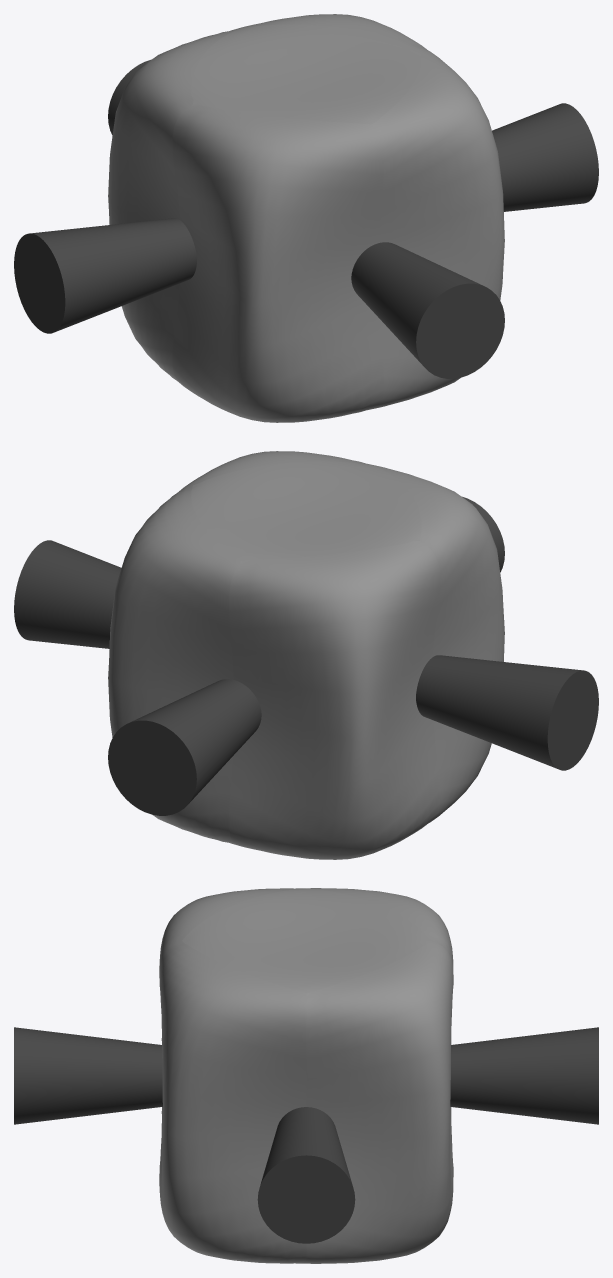
The picture shows the model from 3 angles, top to bottom: view 1: azimuth 30°, elevation 25°; view 2: azimuth 150°, elevation 25°; view 3: azimuth 270°, elevation 25°; orthographic projection. The views are drawn at different scales.
Visible parts, largest first — view 1: Body(Cubic)+Colour(6000000_6000000)+Pattern(Solid)+Smoo_6101, Arm002, Arm004, Arm001, Arm003; view 2: Body(Cubic)+Colour(6000000_6000000)+Pattern(Solid)+Smoo_6101, Arm002, Arm003, Arm001, Arm004; view 3: Body(Cubic)+Colour(6000000_6000000)+Pattern(Solid)+Smoo_6101, Arm004, Arm003, Arm001.
Boxes of the visible parts, left/top/right/bottom form: Body(Cubic)+Colour(6000000_6000000)+Pattern(Solid)+Smoo_6101: left=108, top=14, right=504, bottom=422; Arm002: left=14, top=218, right=196, bottom=333; Arm004: left=351, top=242, right=504, bottom=378; Arm001: left=492, top=103, right=598, bottom=211; Arm003: left=108, top=59, right=151, bottom=135; Body(Cubic)+Colour(6000000_6000000)+Pattern(Solid)+Smoo_6101: left=108, top=451, right=504, bottom=859; Arm002: left=416, top=655, right=598, bottom=770; Arm003: left=108, top=679, right=261, bottom=815; Arm001: left=14, top=540, right=121, bottom=648; Arm004: left=462, top=496, right=504, bottom=572; Body(Cubic)+Colour(6000000_6000000)+Pattern(Solid)+Smoo_6101: left=159, top=888, right=453, bottom=1263; Arm004: left=14, top=1027, right=162, bottom=1124; Arm003: left=450, top=1027, right=598, bottom=1124; Arm001: left=257, top=1107, right=355, bottom=1243.
Bounding box in the file's own units: 1.52 × 0.8001 × 1.52.
Materials: 2 (2 with a texture image).
